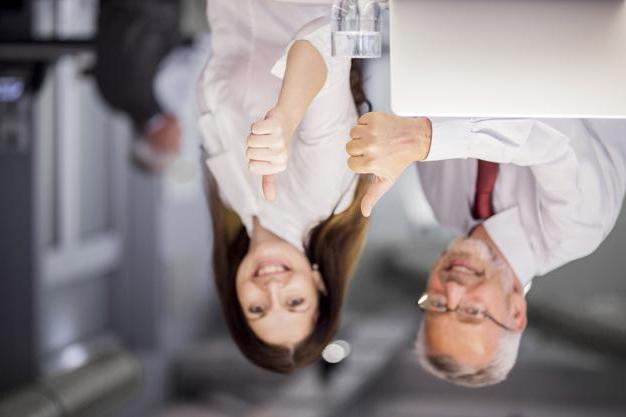thumbsdown: (345, 111, 391, 218), (245, 119, 287, 202)
